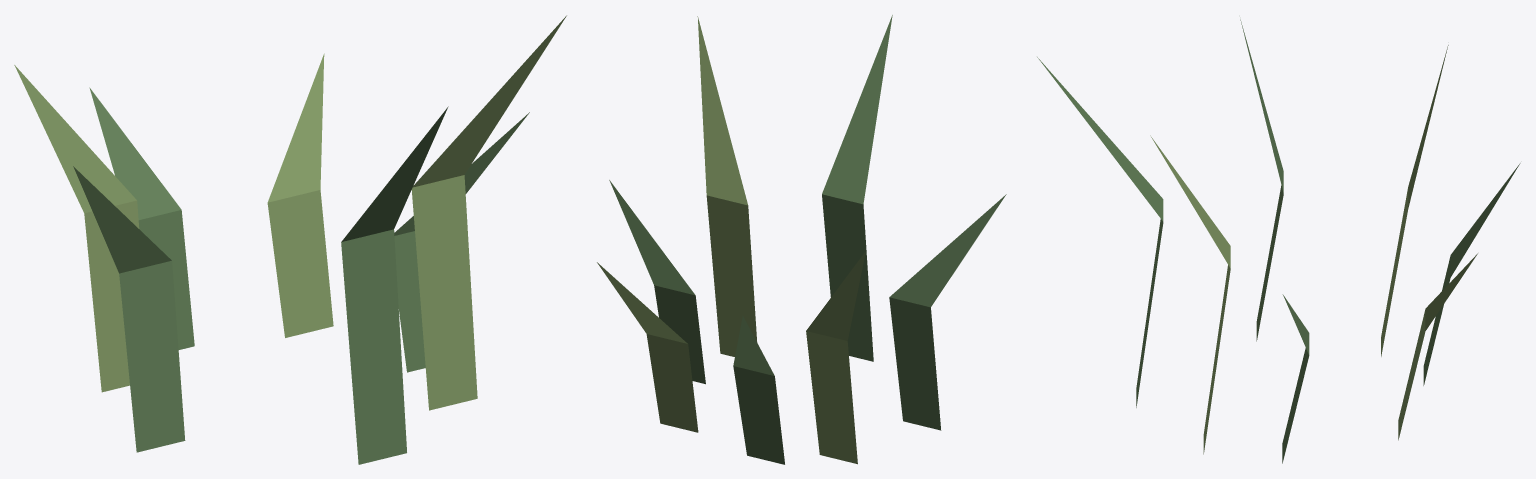
File: grass.glb
3 renders of one model, left to right at view 1: azimuth 30°, elevation 25°; view 2: azimuth 150°, elevation 25°; view 3: azimuth 270°, elevation 25°, orthographic. The views are drawn at different scales.
Visible parts, largest first — view 1: grass_leaf, grass_leaf_light; view 2: grass_leaf, grass_leaf_light; view 3: grass_leaf, grass_leaf_light.
Part boxes in pixels (<box>): grass_leaf: <box>73,87,529,464</box>; grass_leaf_light: <box>14,15,566,410</box>; grass_leaf: <box>609,15,1006,464</box>; grass_leaf_light: <box>597,16,865,464</box>; grass_leaf: <box>1037,19,1520,463</box>; grass_leaf_light: <box>1150,45,1477,454</box>.
Bounding box in the file's own units: 0.4366 × 0.34 × 0.4316.
